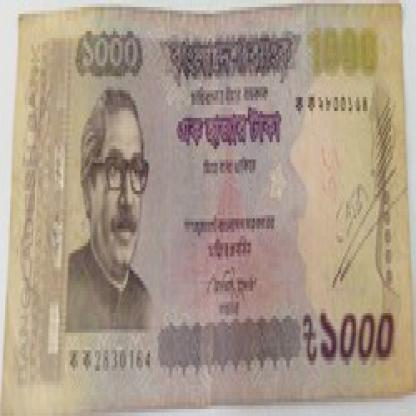One Thousand taka: (298, 305, 399, 378), (303, 21, 381, 83), (75, 31, 143, 76)
